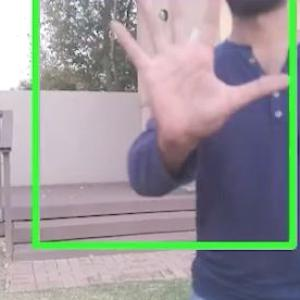follow_hand: (102, 0, 296, 149)
